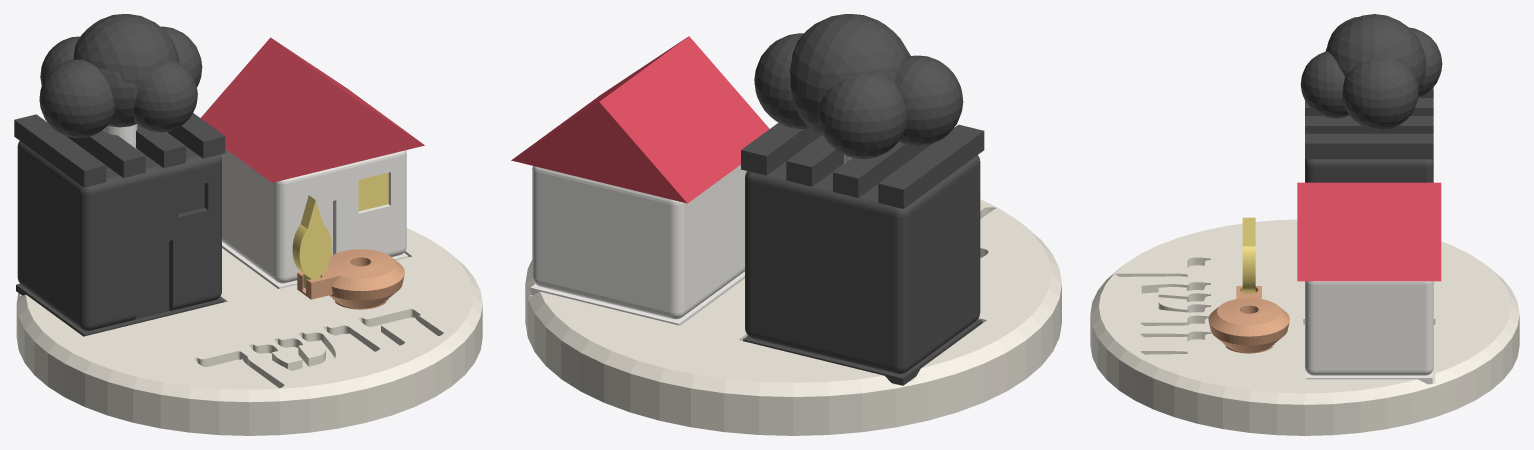
File: darkness.glb
The picture shows the model from 3 angles, left to right: view 1: azimuth 30°, elevation 25°; view 2: azimuth 150°, elevation 25°; view 3: azimuth 270°, elevation 25°; orthographic projection. The views are drawn at different scales.
Visible parts, largest first — view 1: stage, egypt-house, roof, cloud, israel-house, lamp, flame, israel-house--window; view 2: egypt-house, stage, israel-house, roof, cloud; view 3: stage, roof, israel-house, cloud, egypt-house, lamp, flame.
Part boxes in pixels (bbox=[...]): stage: bbox=[16, 228, 482, 435]; egypt-house: bbox=[14, 113, 225, 336]; roof: bbox=[200, 37, 424, 182]; cloud: bbox=[39, 14, 202, 137]; israel-house: bbox=[220, 149, 408, 288]; lamp: bbox=[297, 249, 404, 309]; flame: bbox=[292, 195, 331, 288]; israel-house--window: bbox=[358, 172, 388, 211]; egypt-house: bbox=[741, 123, 984, 385]; stage: bbox=[525, 199, 1061, 435]; israel-house: bbox=[530, 165, 746, 325]; roof: bbox=[511, 36, 769, 203]; cloud: bbox=[754, 14, 963, 158]; stage: bbox=[1090, 219, 1519, 435]; roof: bbox=[1297, 182, 1441, 281]; israel-house: bbox=[1305, 281, 1433, 383]; cloud: bbox=[1300, 14, 1442, 130]; egypt-house: bbox=[1305, 87, 1433, 182]; lamp: bbox=[1208, 286, 1289, 353]; flame: bbox=[1242, 217, 1255, 293].
Bounding box in the file's own units: 40 × 29.56 × 40.
